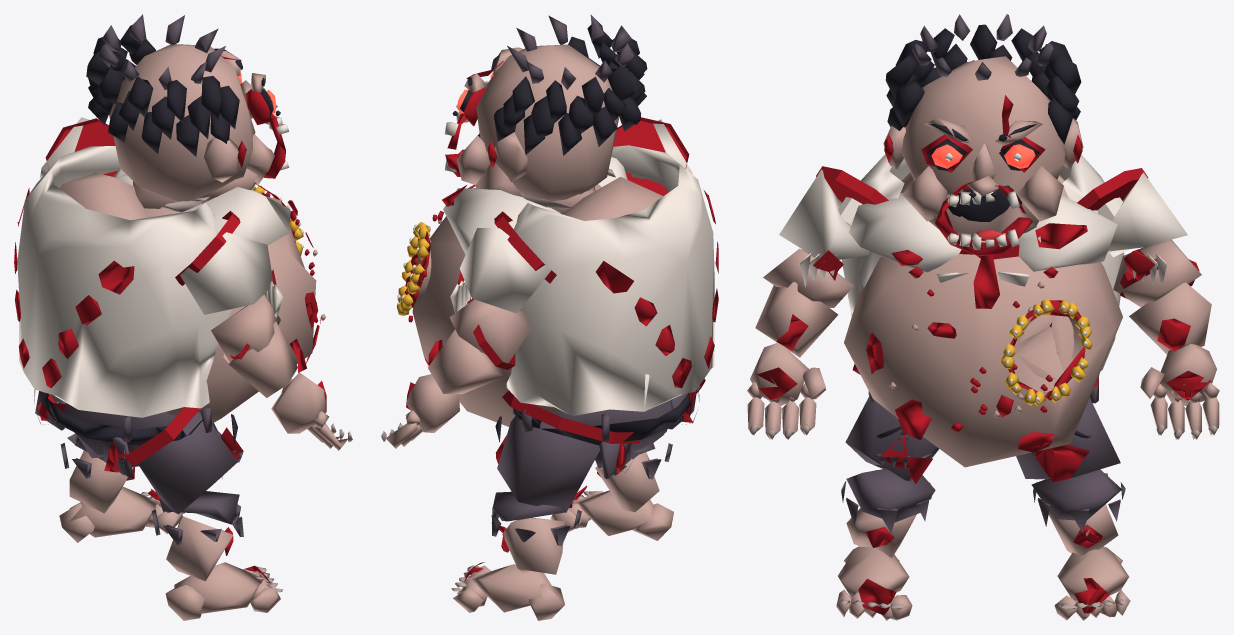
3 views of the same model, side by side, from view 1: azimuth 30°, elevation 25°; view 2: azimuth 150°, elevation 25°; view 3: azimuth 270°, elevation 25° (orthographic). The views are drawn at different scales.
Parts seen in each view (by area): view 1: torso, head, armR, legR, shinR, footR, hip, footL, handR, foreArmR, shinL, stump_legR (+4 smaller); view 2: torso, head, armL, legL, shinL, footL, footR, hip, foreArmL, handL, shinR, stump_armR (+5 smaller); view 3: torso, head, armL, armR, shinR, handR, handL, shinL, footR, legR, footL, legL (+4 smaller).
Part boxes in pixels (x1,y1,x2,y2): torso: (14,146,325,423); head: (86,14,289,208); armR: (180,232,283,363); legR: (100,412,243,514); shinR: (151,491,243,581); footR: (165,562,282,620); hip: (41,393,211,454); footL: (59,487,184,542); handR: (271,372,352,450); foreArmR: (228,321,306,397); shinL: (60,433,138,513); stump_legR: (107,407,200,464); torso: (396,145,718,426); head: (445,14,647,213); armL: (449,228,551,367); legL: (495,416,633,512); shinL: (491,491,581,574); footL: (451,562,564,620); footR: (550,485,673,540); hip: (513,393,690,459); foreArmL: (428,329,505,394); handL: (381,374,459,448); shinR: (595,434,672,512); stump_armR: (613,117,689,195); torso: (841,154,1124,467); head: (883,14,1083,256); armL: (1108,172,1201,307); armR: (763,169,869,307); shinR: (841,469,935,557); handR: (747,342,825,439); handL: (1140,344,1219,439); shinL: (1031,469,1125,555); footR: (836,546,912,620); legR: (845,397,938,483); footL: (1054,546,1130,620); legL: (1016,397,1120,482).
Bounding box in the file's own units: 0.9947 × 1.8 × 1.37.
